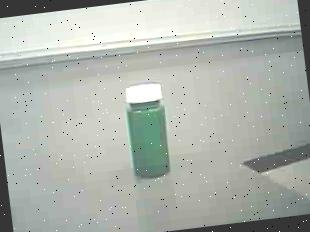Bottle C: (113, 74, 185, 191)
